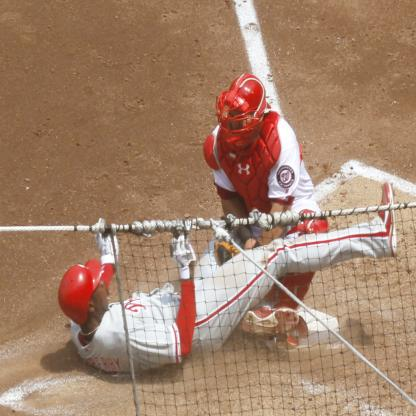Helmet: (220, 75, 270, 146), (58, 257, 104, 327)
